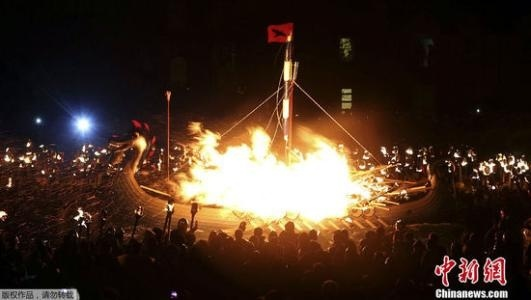fire: (181, 124, 380, 220)
